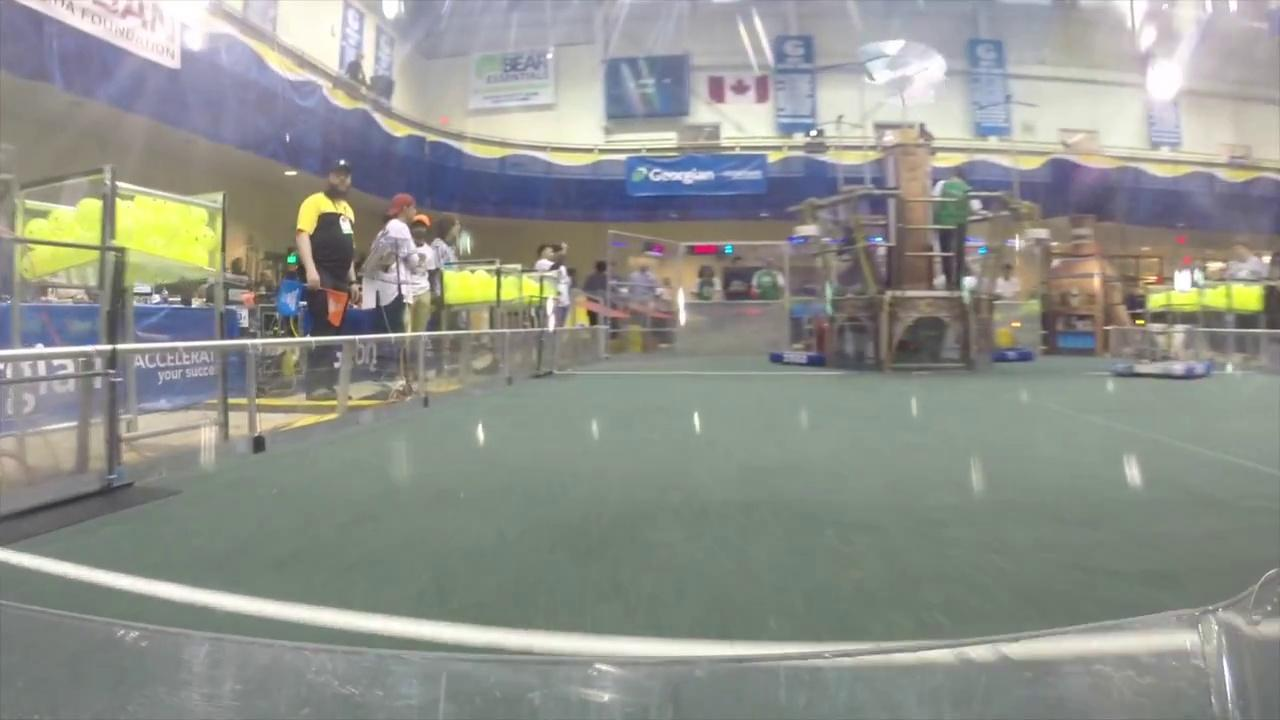robot: (1099, 320, 1216, 382), (769, 307, 831, 371)
